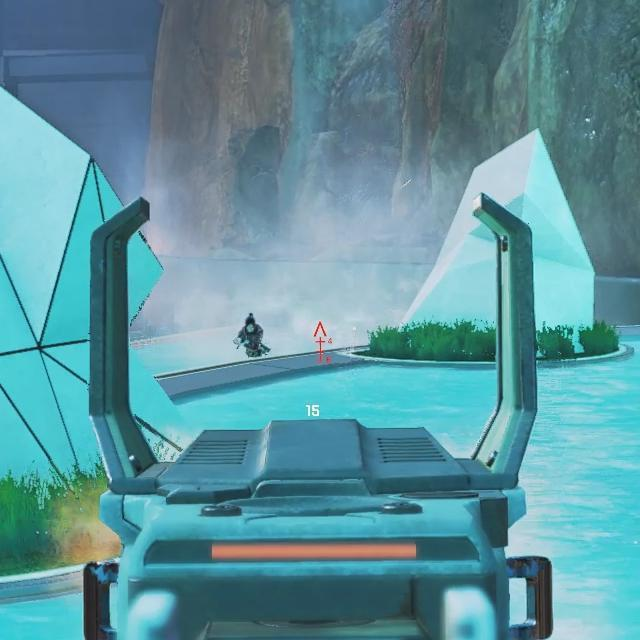avatar: (230, 310, 272, 360)
